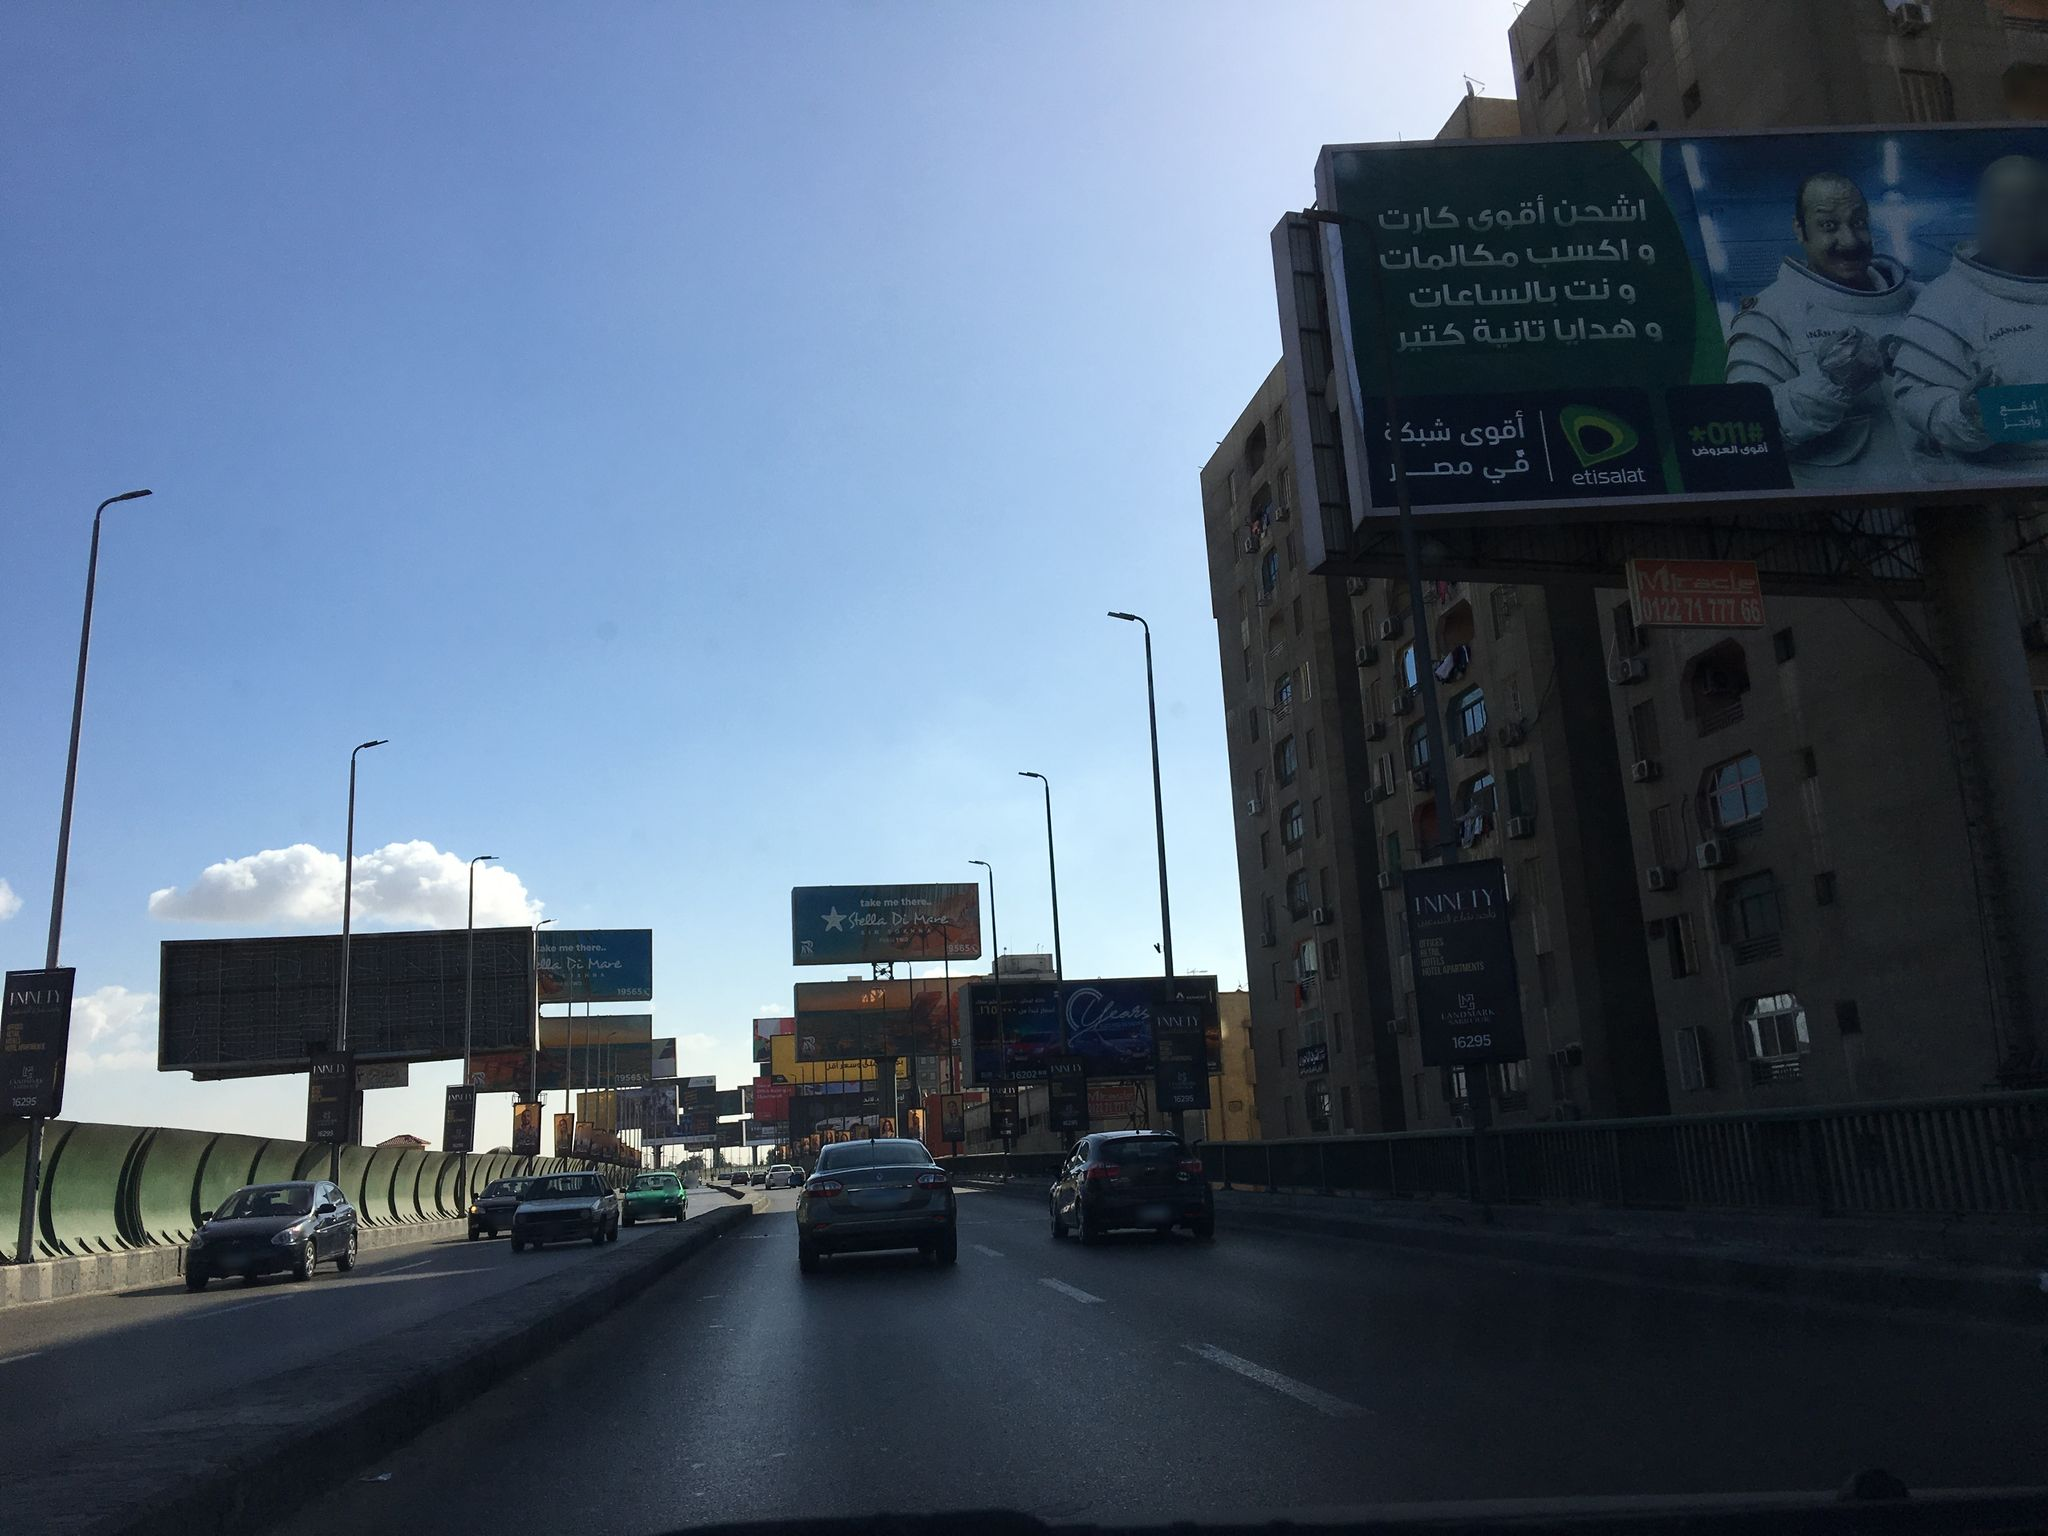car: (793, 1137, 959, 1268), (1047, 1128, 1214, 1244), (182, 1179, 358, 1288), (511, 1170, 619, 1246), (466, 1175, 537, 1241), (618, 1171, 689, 1225), (764, 1163, 793, 1189), (750, 1170, 766, 1187), (729, 1171, 747, 1184)
